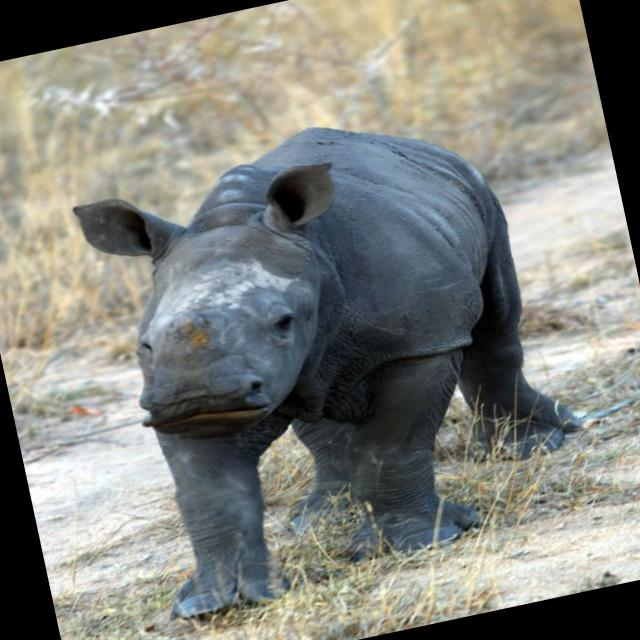rhino: (13, 53, 640, 634)
